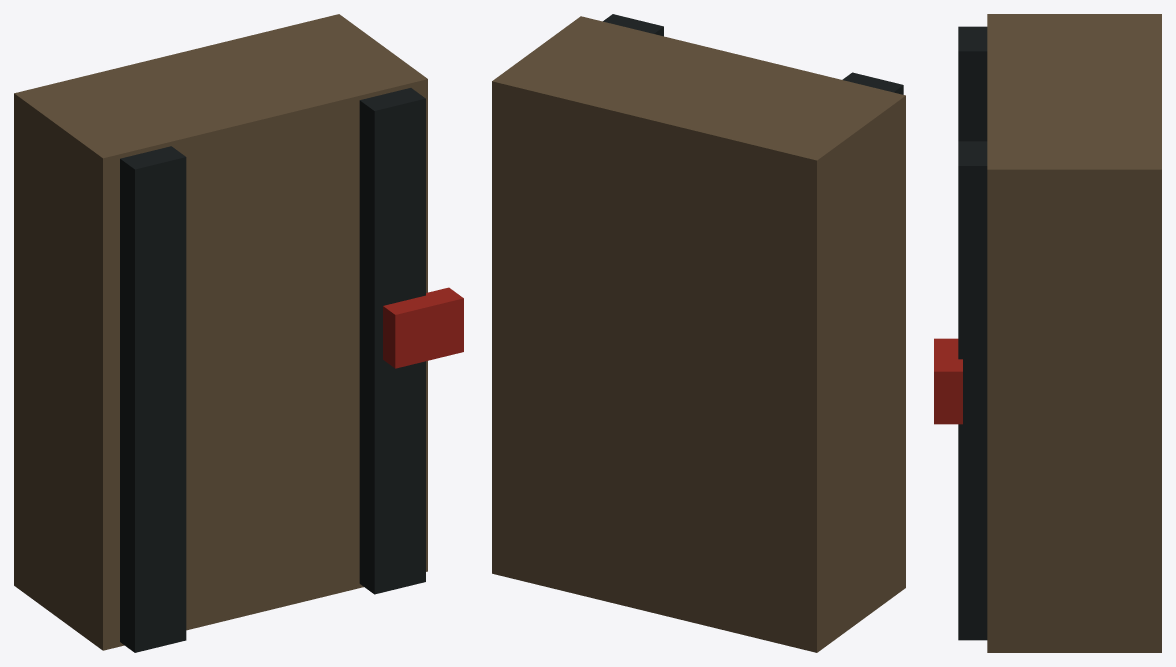
The picture shows the model from 3 angles, left to right: view 1: azimuth 30°, elevation 25°; view 2: azimuth 150°, elevation 25°; view 3: azimuth 270°, elevation 25°; orthographic projection.
Visible parts, largest first — view 1: parachute-pack-painted; view 2: parachute-pack-painted; view 3: parachute-pack-painted.
Boxes of the visible parts, x1,y1,x2,y2 form: parachute-pack-painted: [14, 14, 463, 652]; parachute-pack-painted: [492, 14, 905, 652]; parachute-pack-painted: [934, 14, 1161, 652].
Bounding box in the file's own units: 2.05 × 2.89 × 1.24.
